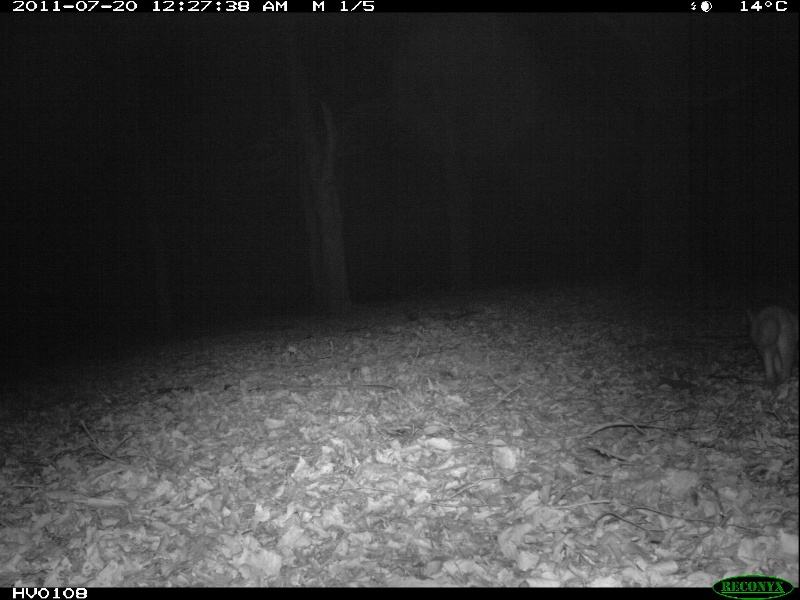fox: (742, 298, 800, 394)
